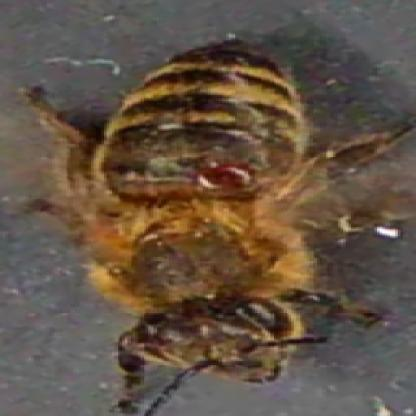bee: (77, 38, 364, 382)
vaoora: (202, 167, 262, 191)
